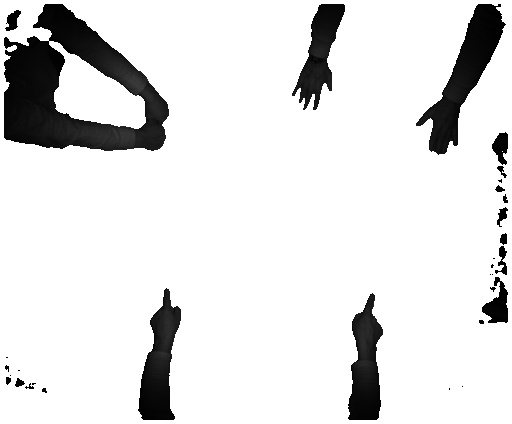fist: (144, 93, 175, 125), (140, 124, 167, 151)
hand: (416, 104, 462, 159), (288, 64, 335, 111), (144, 288, 183, 343), (352, 288, 383, 352)
